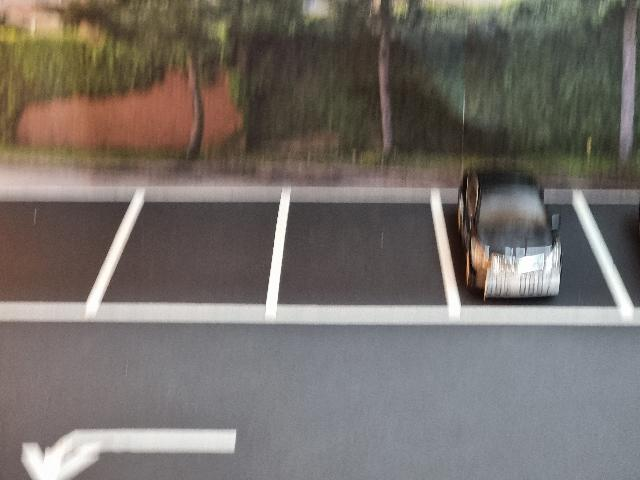empty: (272, 188, 460, 328), (121, 184, 289, 328), (0, 186, 134, 328)
occupied: (445, 163, 579, 306)
